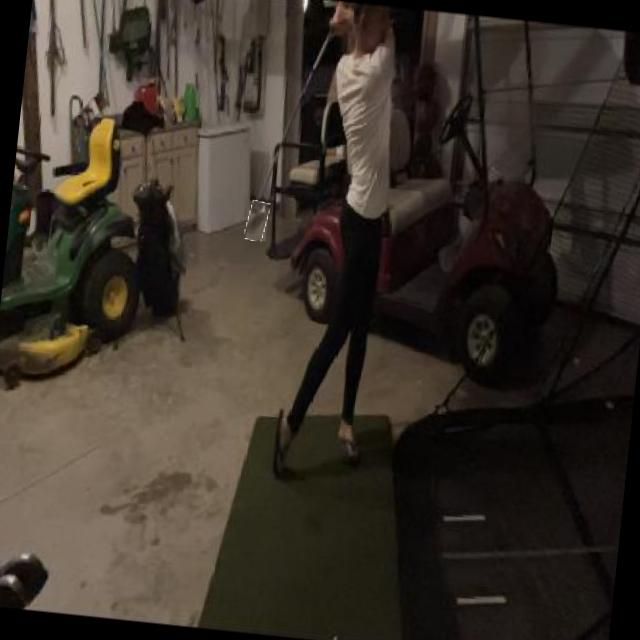club head: (245, 200, 269, 241)
